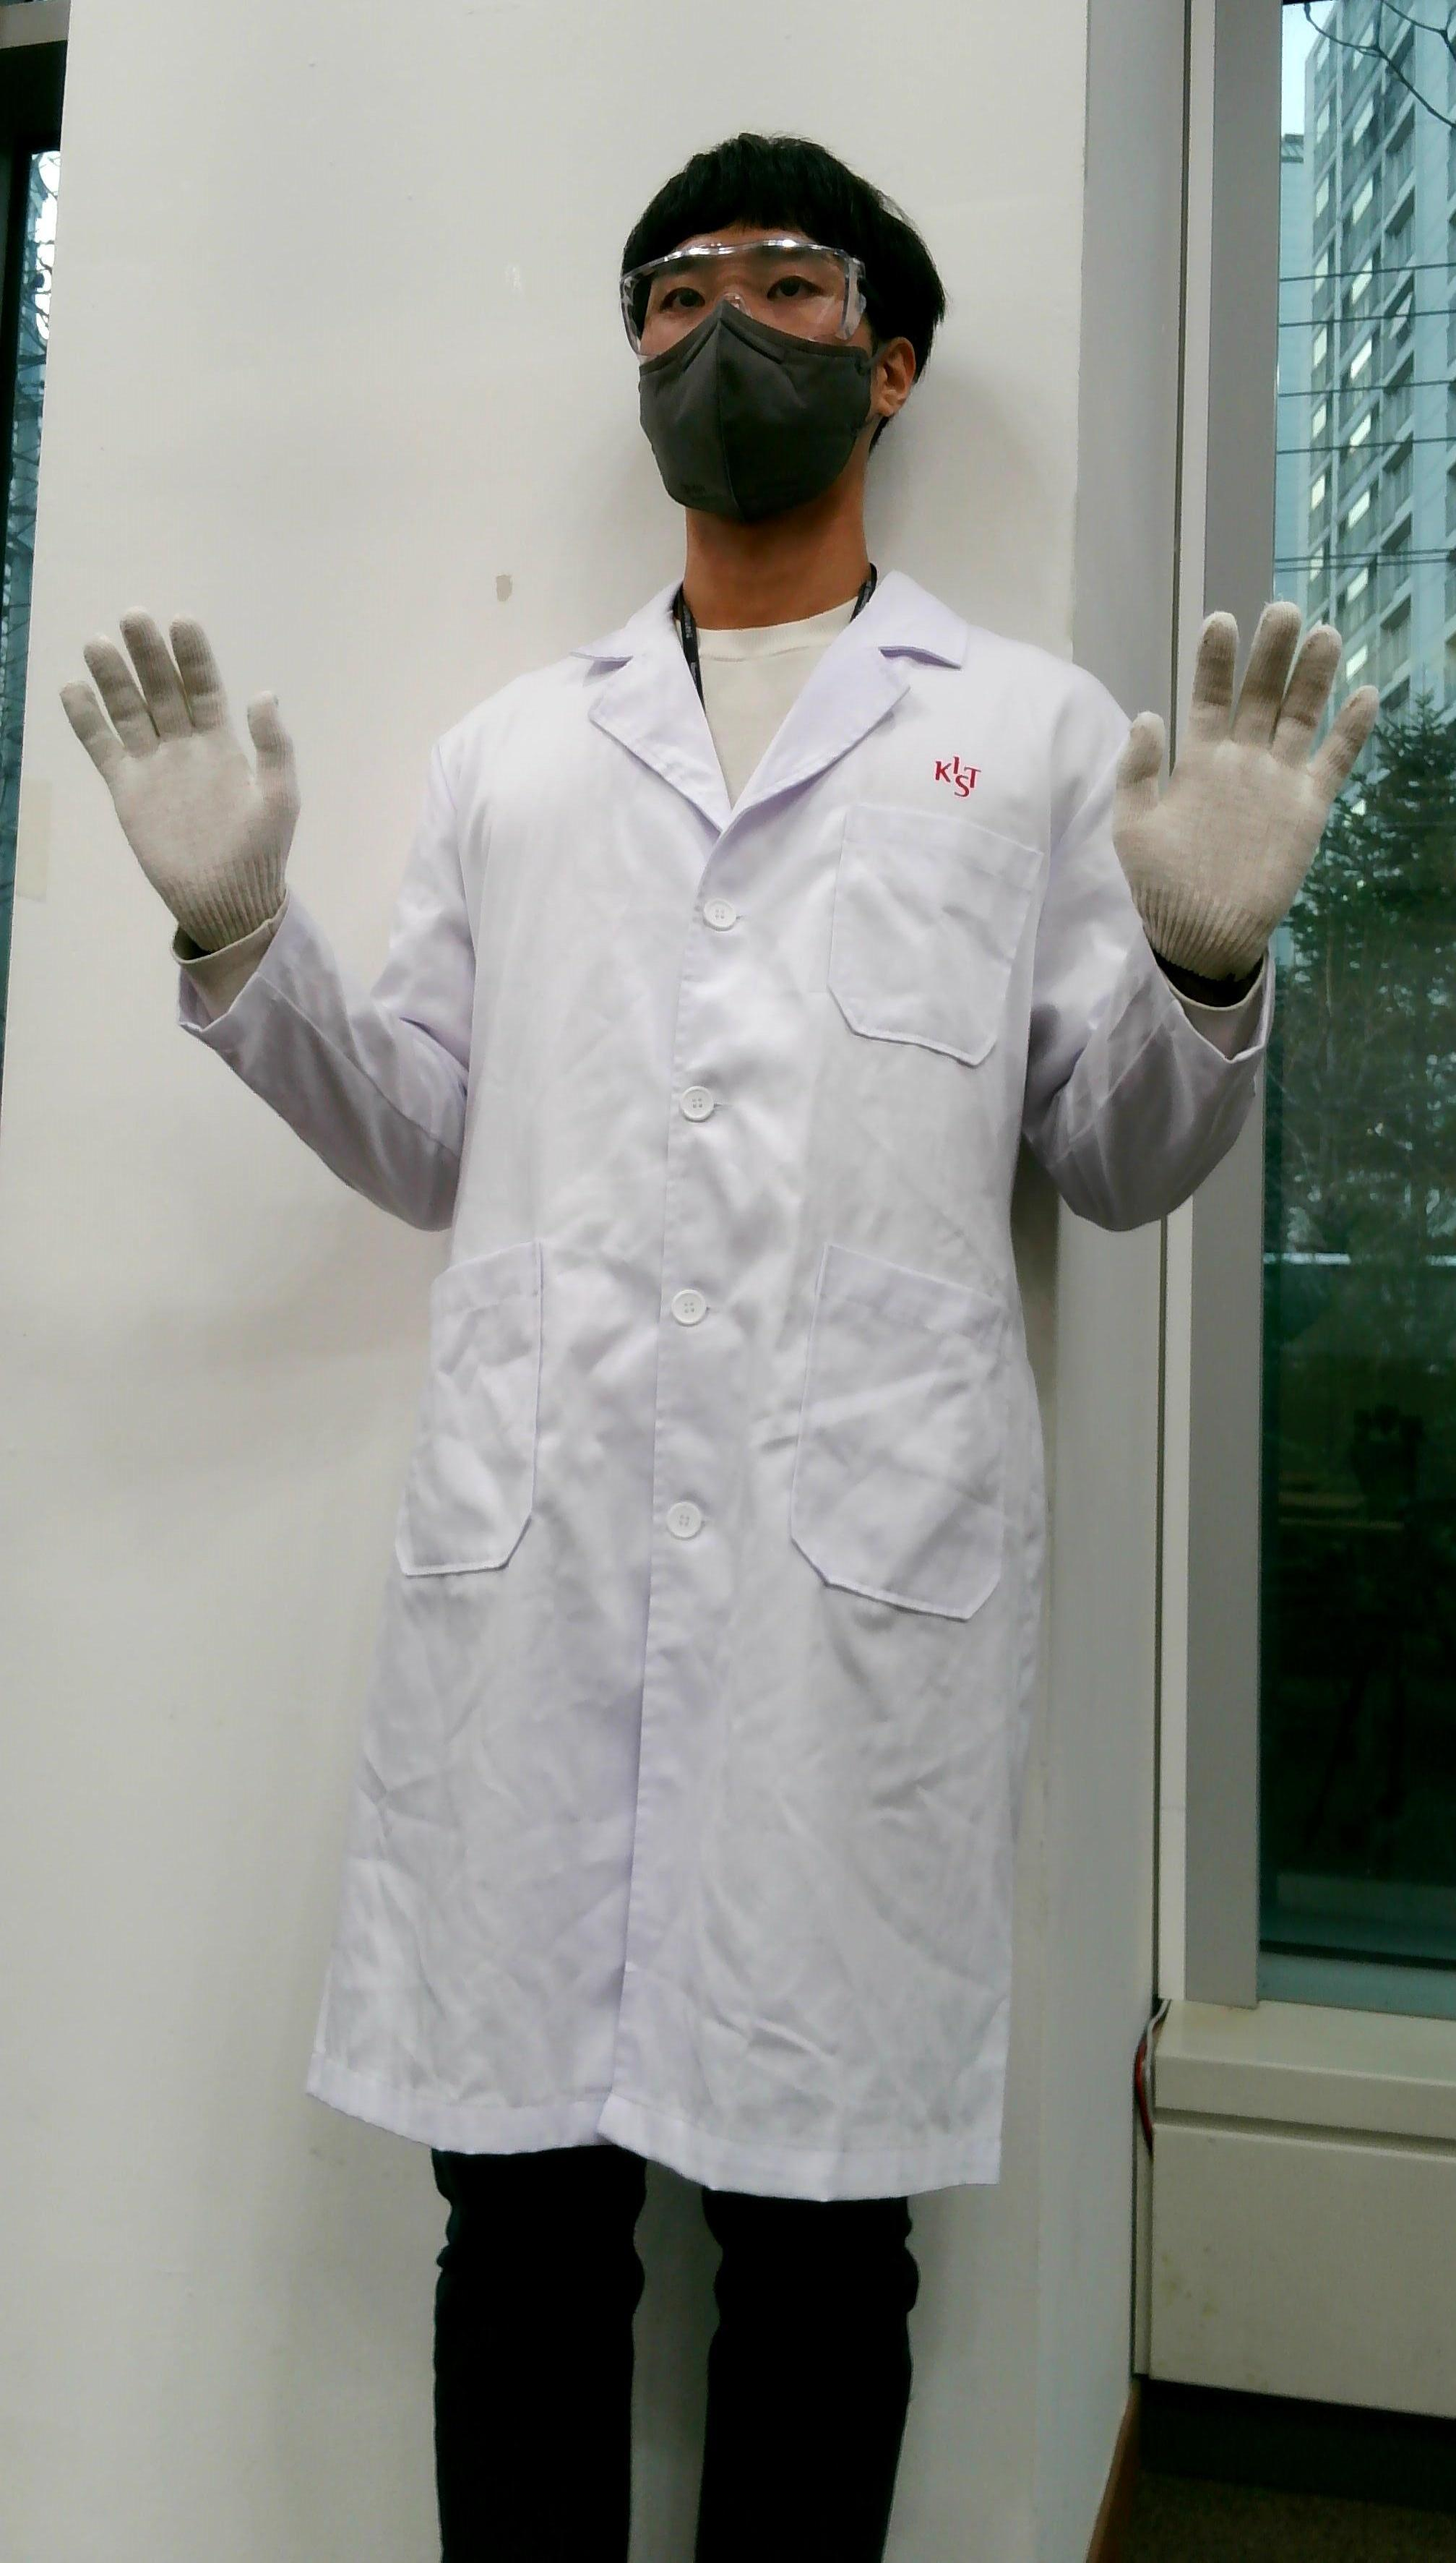lab_coat: (317, 667, 1121, 2126)
